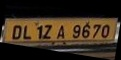character: (11, 23, 21, 40), (42, 24, 52, 39), (22, 24, 31, 40), (92, 23, 101, 39), (71, 23, 80, 38), (81, 23, 90, 38), (100, 23, 109, 38), (56, 24, 64, 39), (36, 24, 42, 39)
